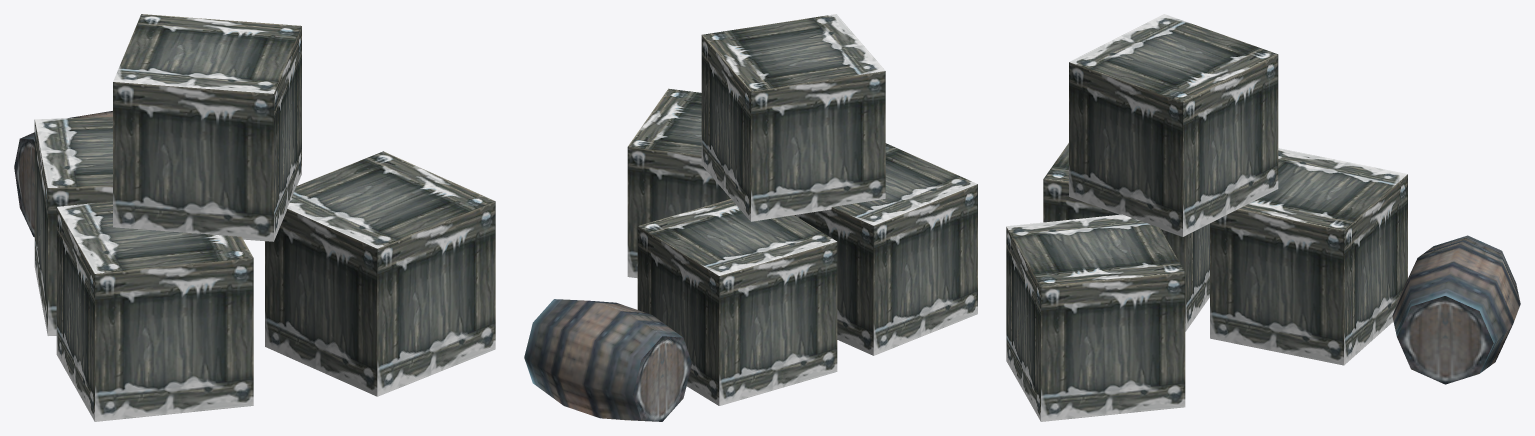
Rendered from 3-1_xiangz5.FBX.
The picture shows the model from 3 angles, left to right: view 1: azimuth 30°, elevation 25°; view 2: azimuth 150°, elevation 25°; view 3: azimuth 270°, elevation 25°; orthographic projection. The views are drawn at different scales.
Visible parts, largest first — view 1: 3-1_xiangz5; view 2: 3-1_xiangz5; view 3: 3-1_xiangz5.
Boxes of the visible parts, x1=… form: 3-1_xiangz5: x1=14, y1=14, x2=495, y2=421; 3-1_xiangz5: x1=524, y1=14, x2=977, y2=421; 3-1_xiangz5: x1=1006, y1=14, x2=1520, y2=421.
Size of the model in its own units: 227 by 179 by 295.
